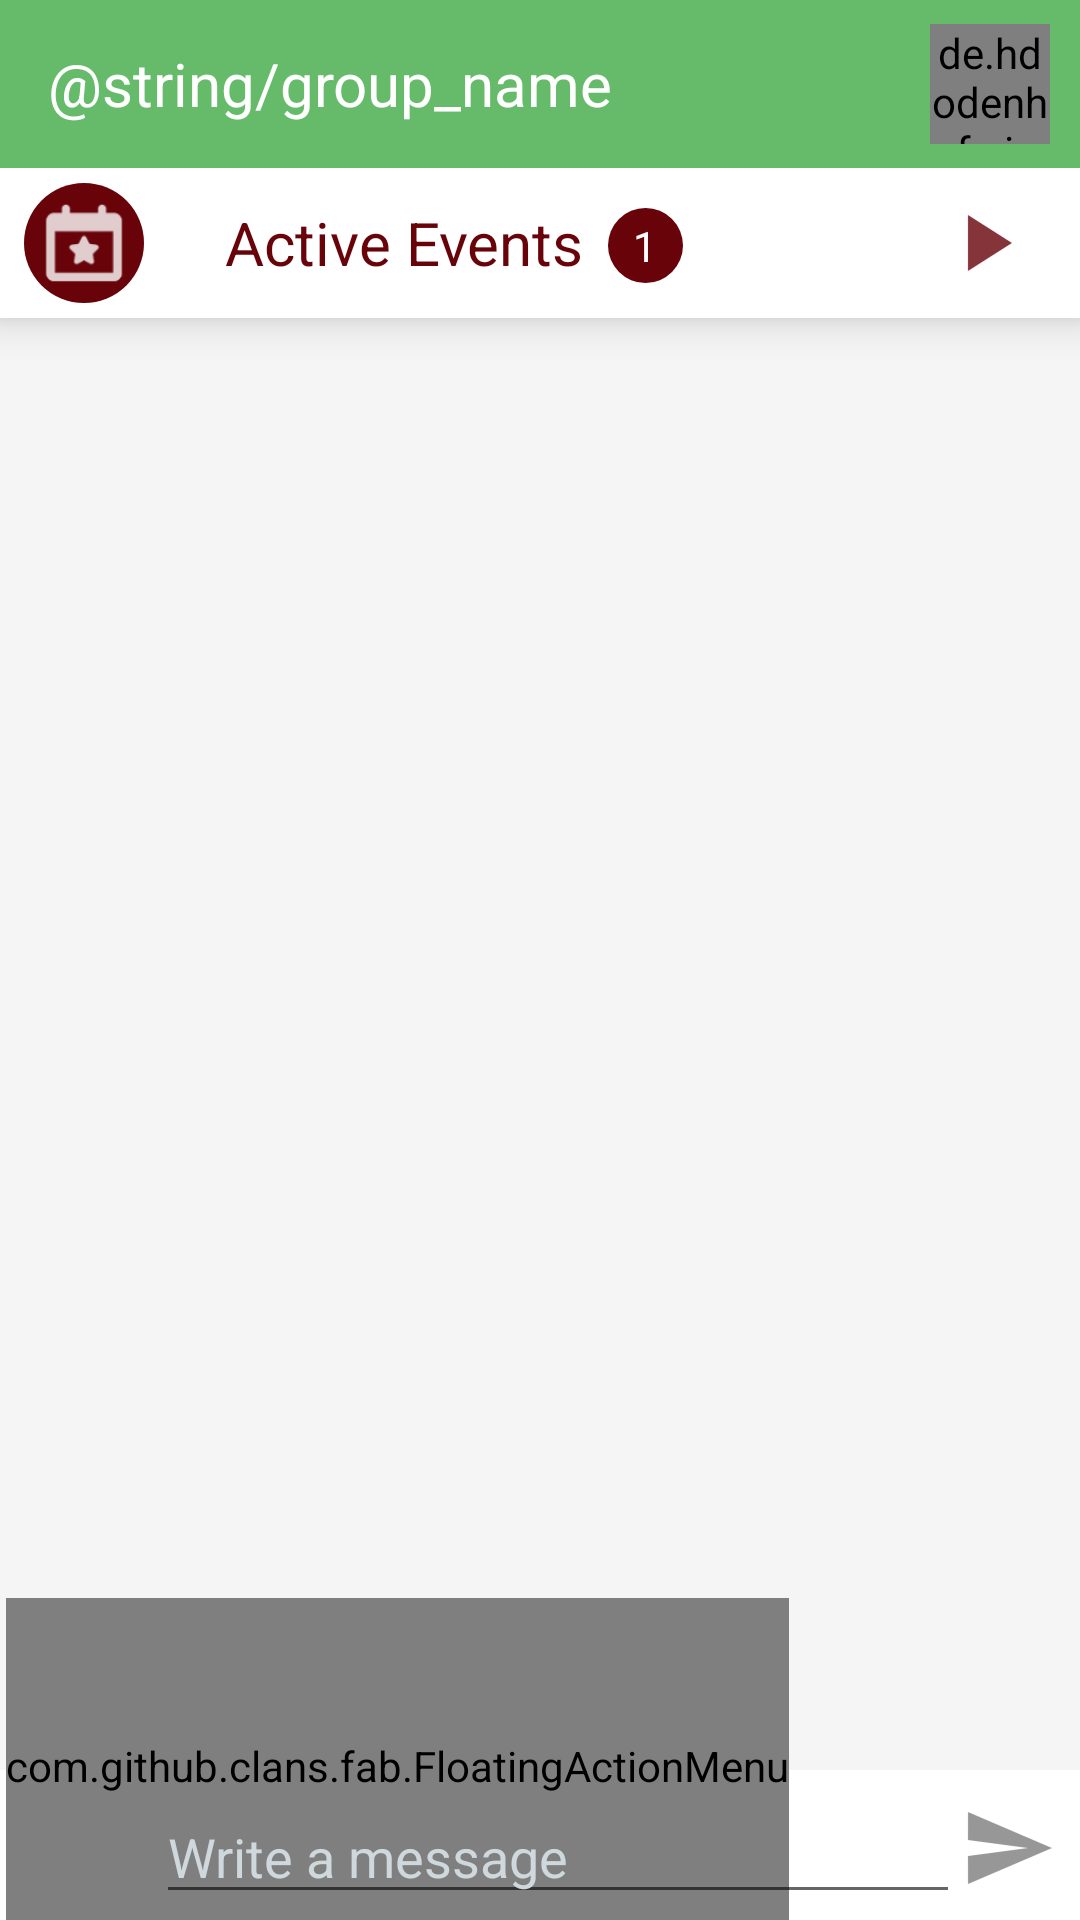

Icon click points for this 1080*1920 phone screenshot, format point (x, y):
ccalender star: point (84, 243)
send: point (1010, 1848)
